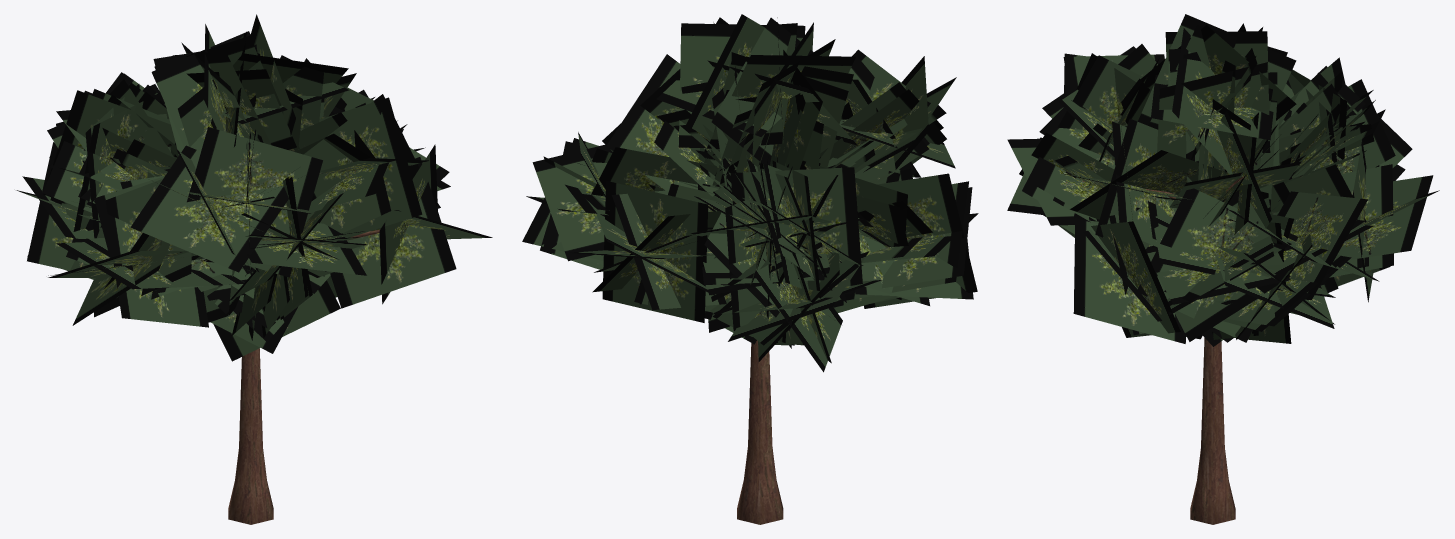
The model's file is SmallTree.glb.
The picture shows the model from 3 angles, left to right: view 1: azimuth 30°, elevation 25°; view 2: azimuth 150°, elevation 25°; view 3: azimuth 270°, elevation 25°; orthographic projection. The views are drawn at different scales.
Parts seen in each view (by area): view 1: Object_3, Object_4; view 2: Object_3, Object_4; view 3: Object_3, Object_4.
Part boxes in pixels (left/top/right/bottom): Object_3: left=16, top=14, right=492, bottom=361; Object_4: left=228, top=170, right=408, bottom=524; Object_3: left=522, top=14, right=978, bottom=372; Object_4: left=737, top=238, right=908, bottom=524; Object_3: left=1007, top=14, right=1439, bottom=346; Object_4: left=1082, top=176, right=1301, bottom=524.
Size of the model in its own units: 0.8708 by 1.02 by 0.8151.
Materials: 2 (2 with a texture image).
